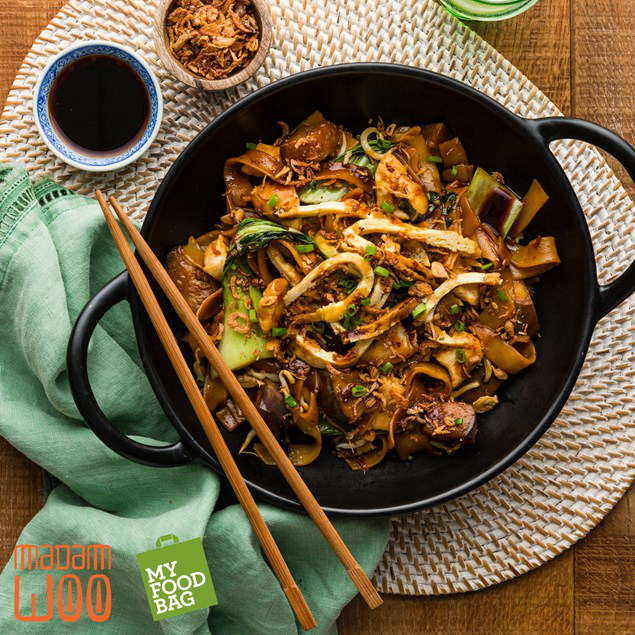Char Kway Teow: (135, 112, 561, 478)
